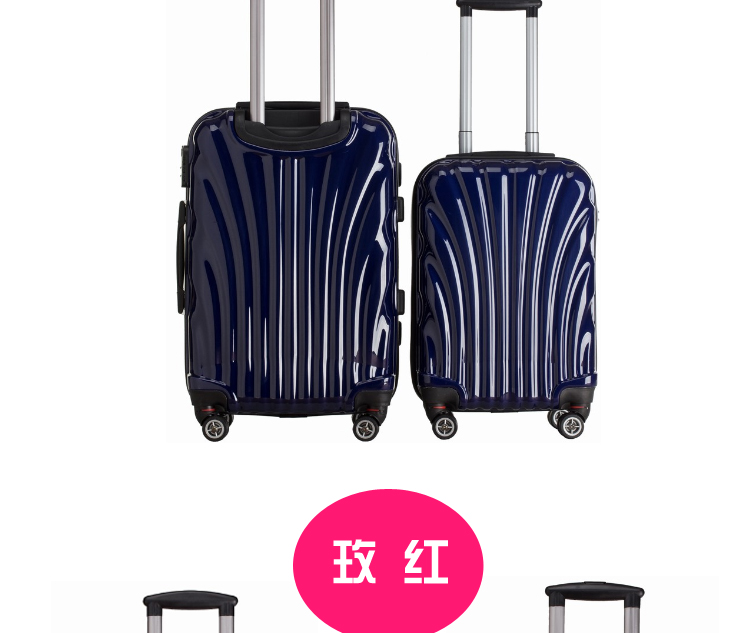luggage: (408, 0, 599, 444)
